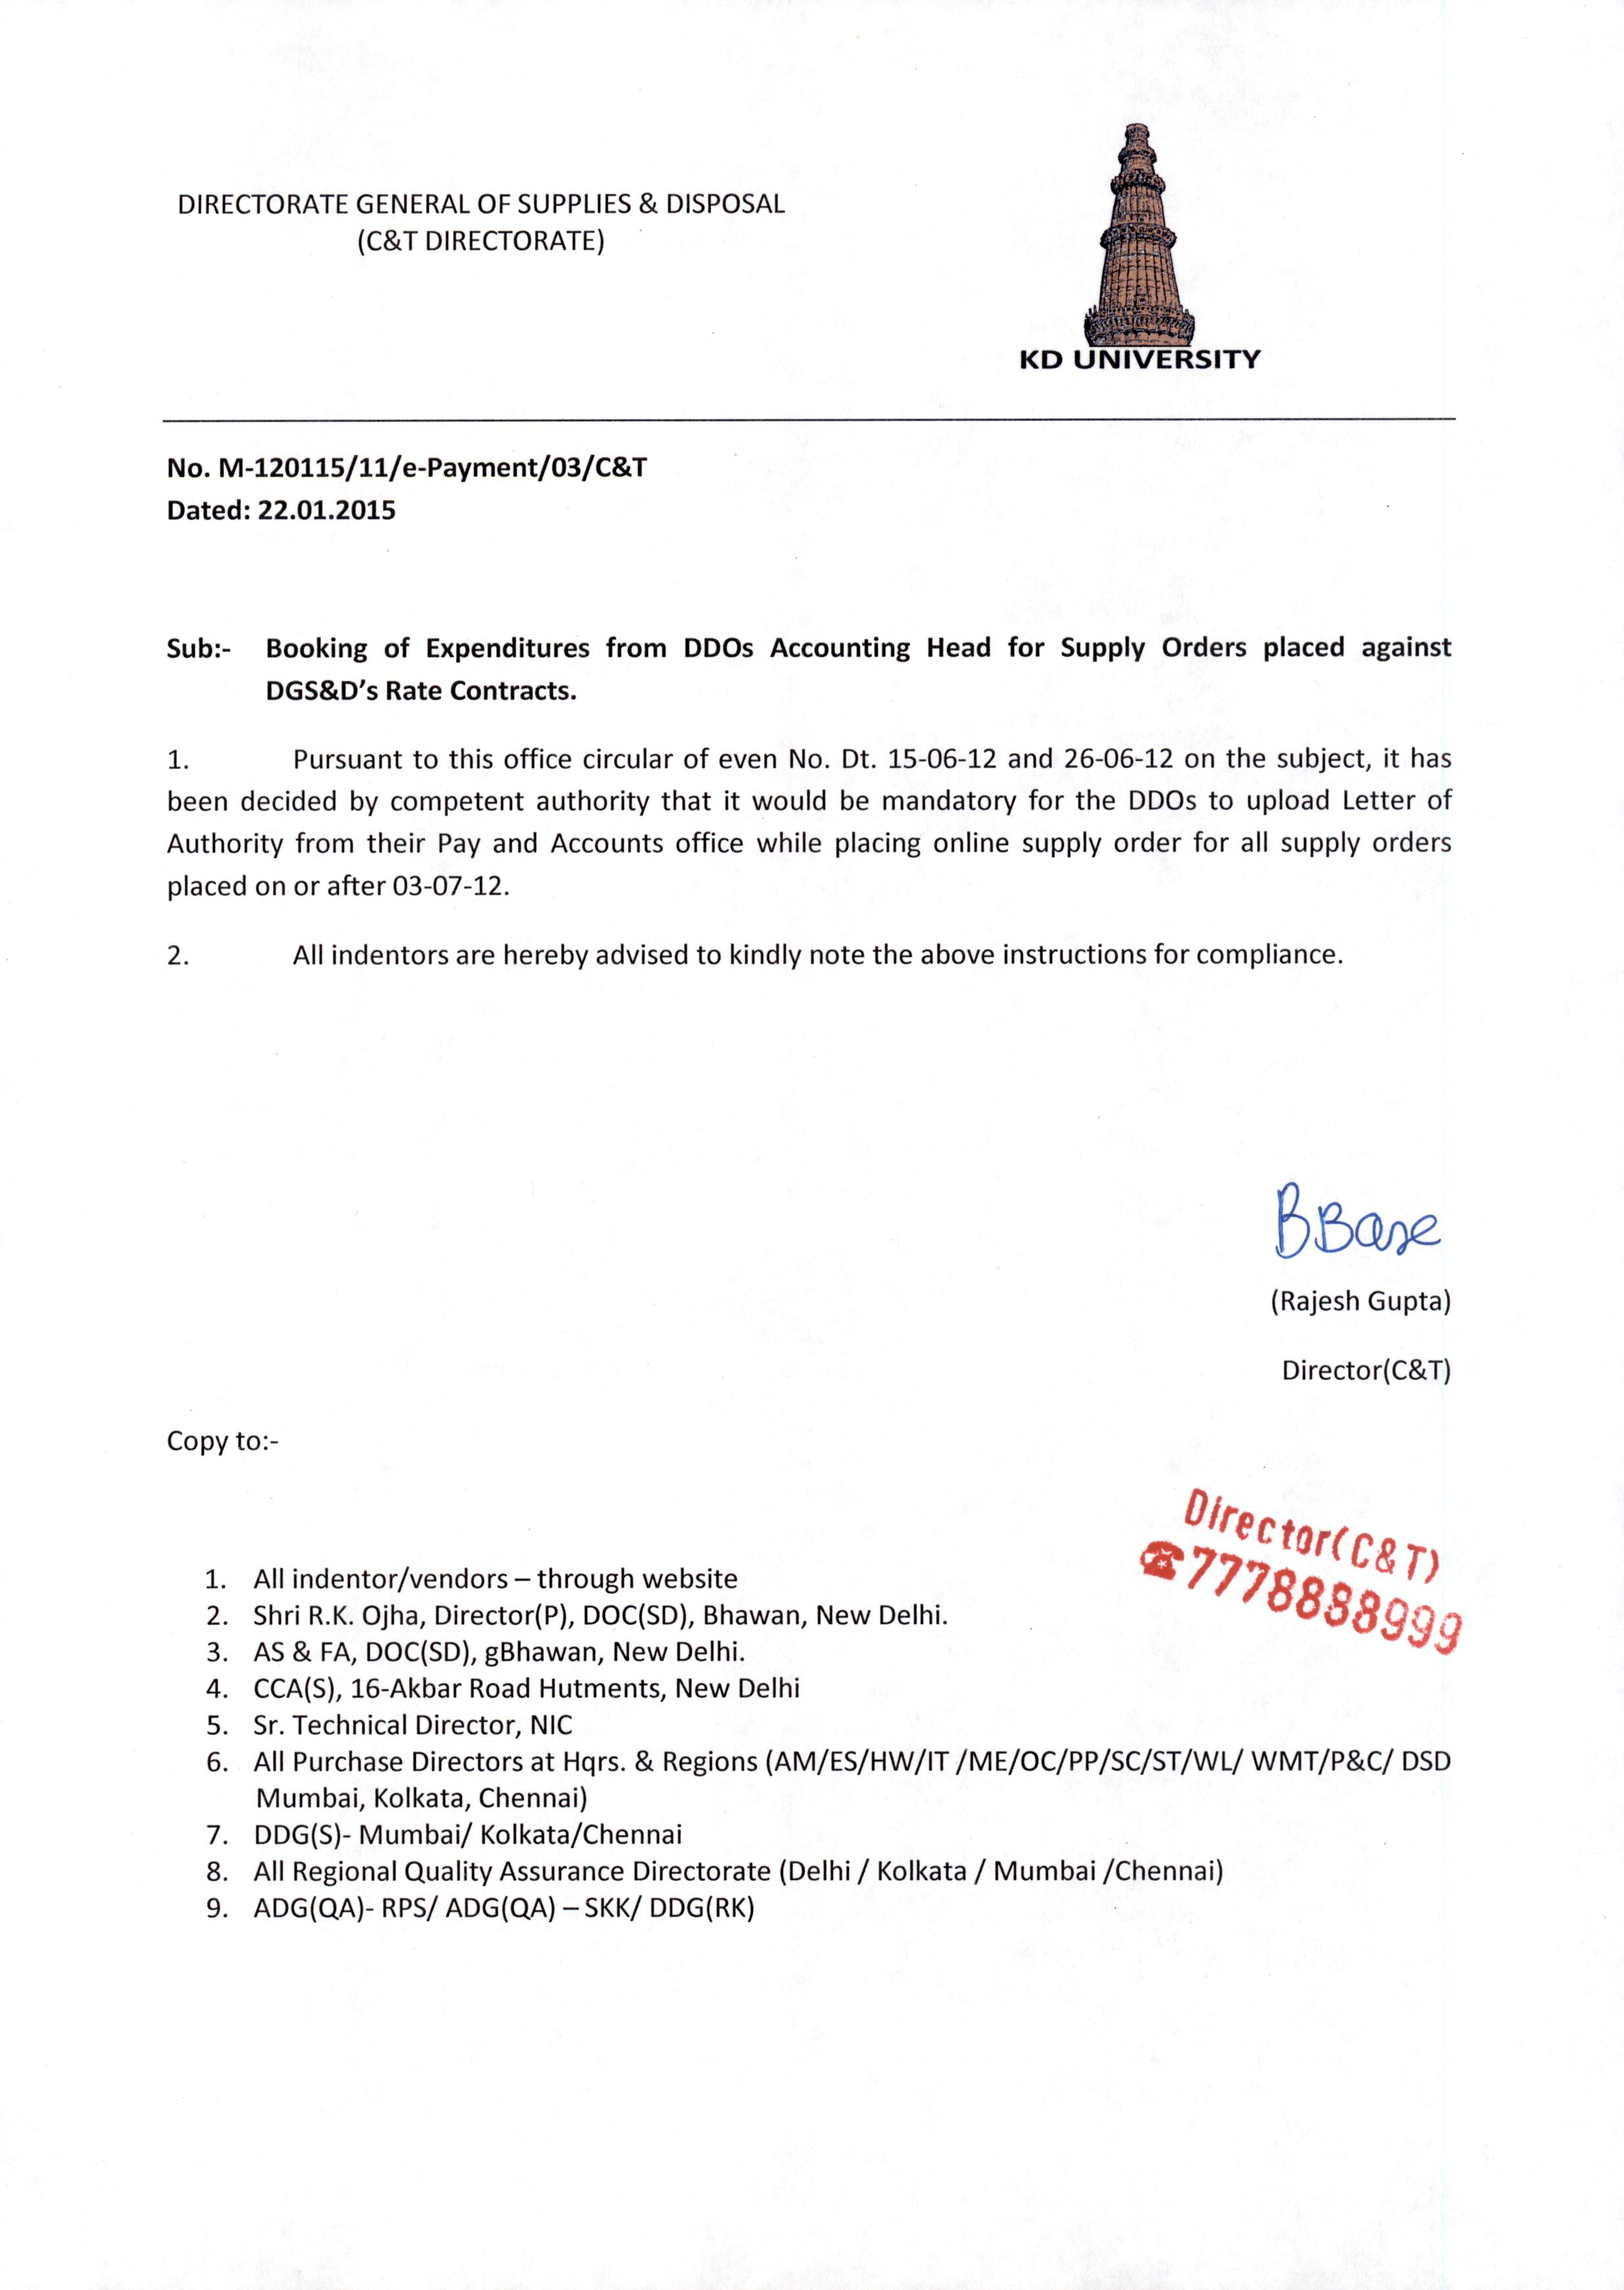Signature: (1267, 1176, 1450, 1267)
